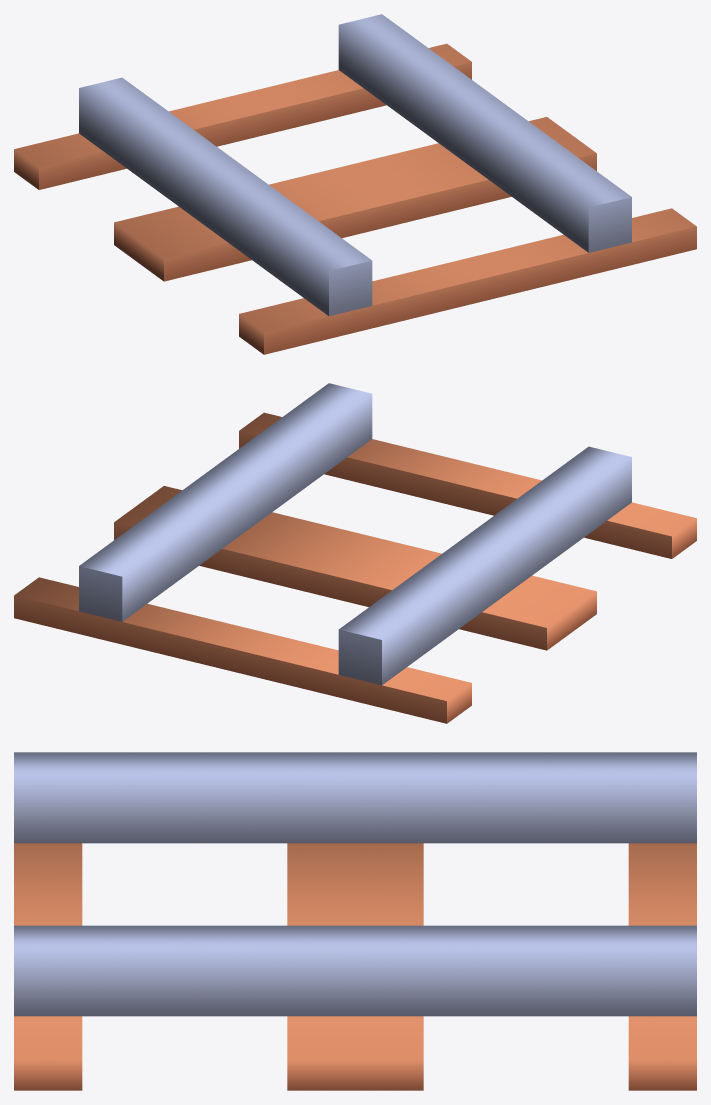
File: track.glb
The picture shows the model from 3 angles, top to bottom: view 1: azimuth 30°, elevation 25°; view 2: azimuth 150°, elevation 25°; view 3: azimuth 270°, elevation 25°; orthographic projection. The views are drawn at different scales.
Visible parts, largest first — view 1: track; view 2: track; view 3: track.
Part boxes in pixels (x1,y1,x2,y2): track: [14, 14, 696, 354]; track: [14, 383, 696, 723]; track: [14, 752, 696, 1090].
Size of the model in its own units: 1 by 0.15 by 1.
Materials: 1 (1 with a texture image).
